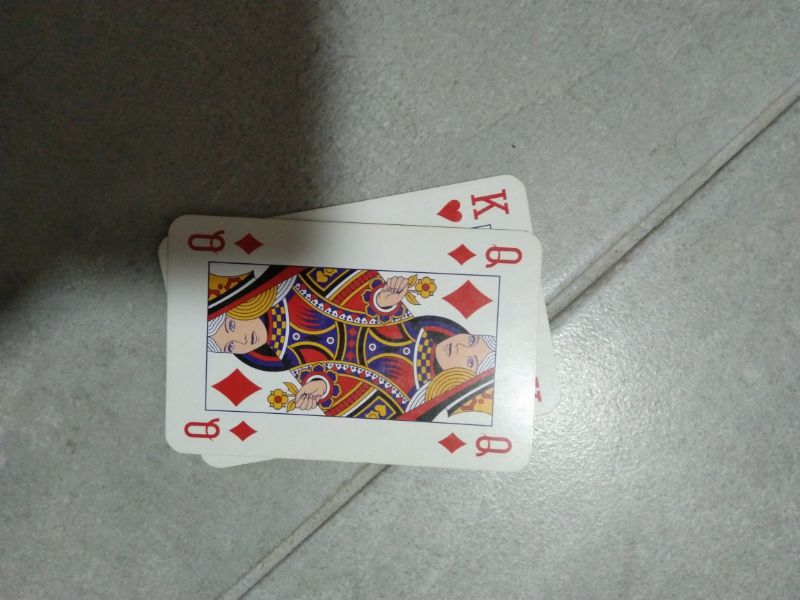Kh: (435, 180, 515, 229)
Qd: (179, 219, 272, 266), (172, 404, 266, 449), (437, 422, 517, 467), (445, 235, 529, 277)
